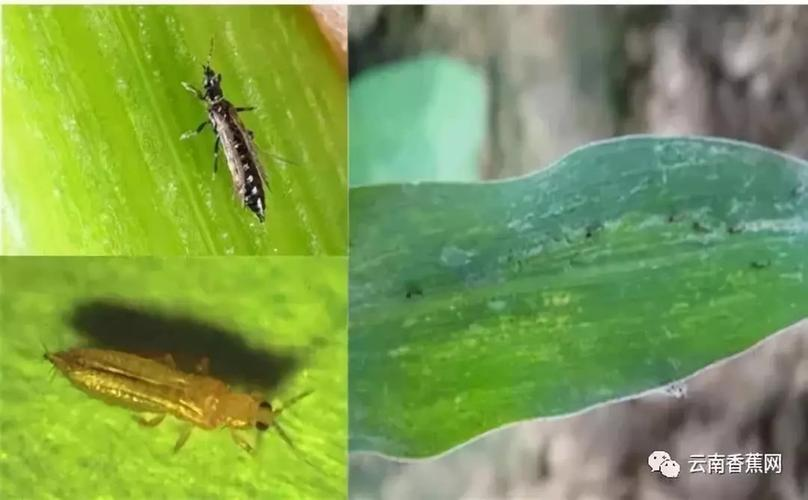Thripidae: (36, 335, 314, 459), (182, 36, 295, 225)
